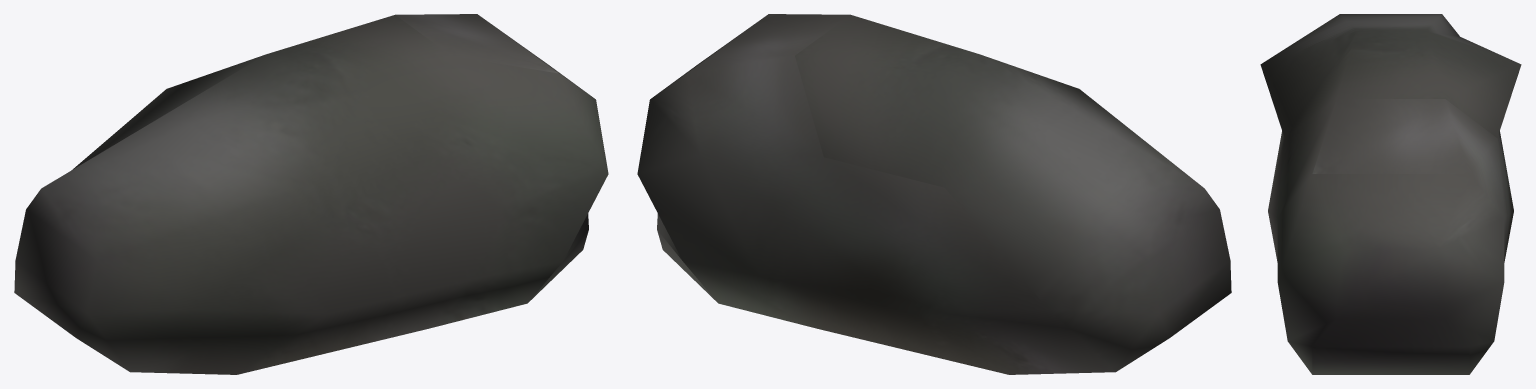
The model's file is Rock05.fbx.
3 views of the same model, side by side, from view 1: azimuth 30°, elevation 25°; view 2: azimuth 150°, elevation 25°; view 3: azimuth 270°, elevation 25° (orthographic). The views are drawn at different scales.
Parts seen in each view (by area): view 1: Rock05; view 2: Rock05; view 3: Rock05.
Boxes of the visible parts, bbox=[...] form: Rock05: bbox=[14, 14, 608, 374]; Rock05: bbox=[637, 14, 1231, 374]; Rock05: bbox=[1260, 14, 1521, 374].
Size of the model in its own units: 2.4 by 1.16 by 1.07.
Materials: 1 (1 with a texture image).
